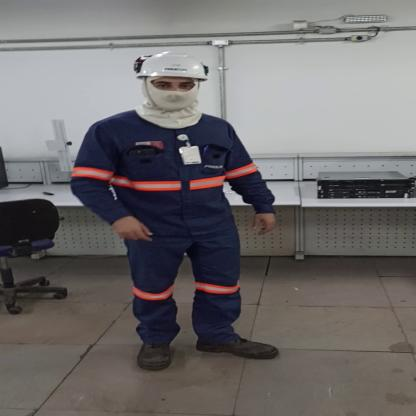Balaclava: (133, 78, 205, 133)
Capacete: (125, 49, 216, 82)
